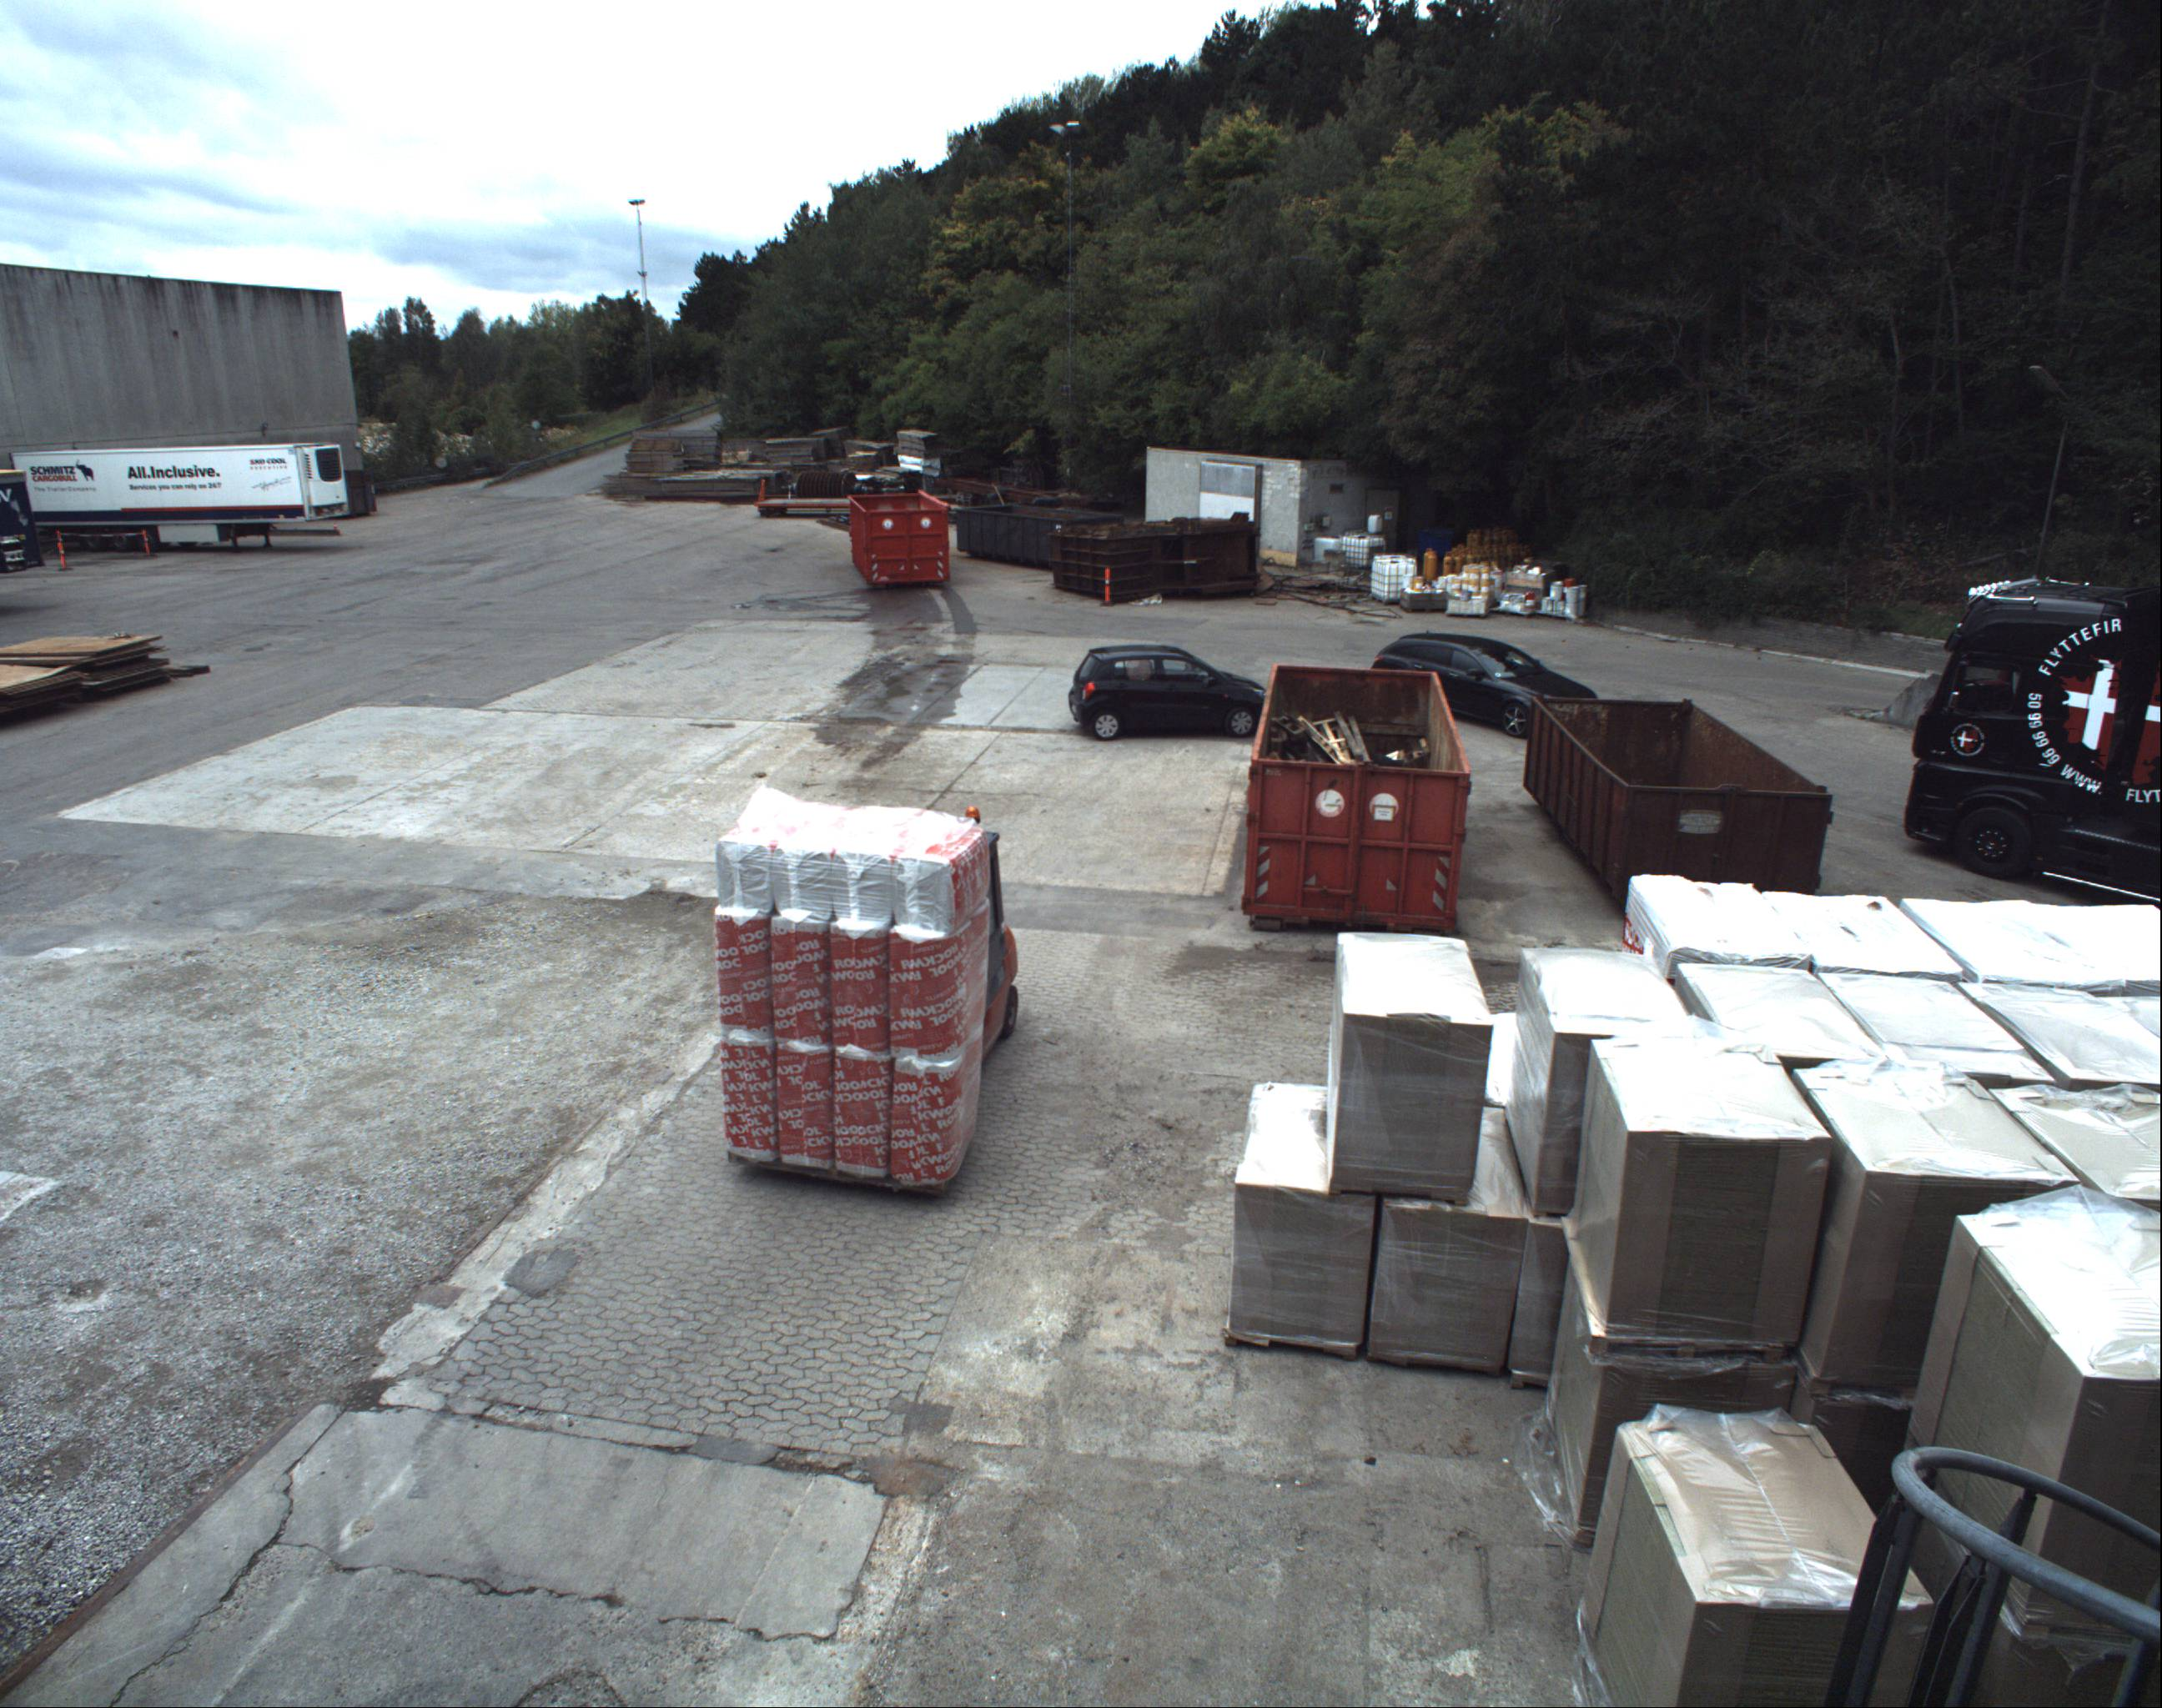rockwool_batts: (721, 785, 986, 1194)
